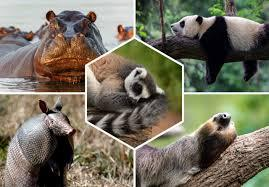Non_Gorille: (13, 4, 251, 185)
